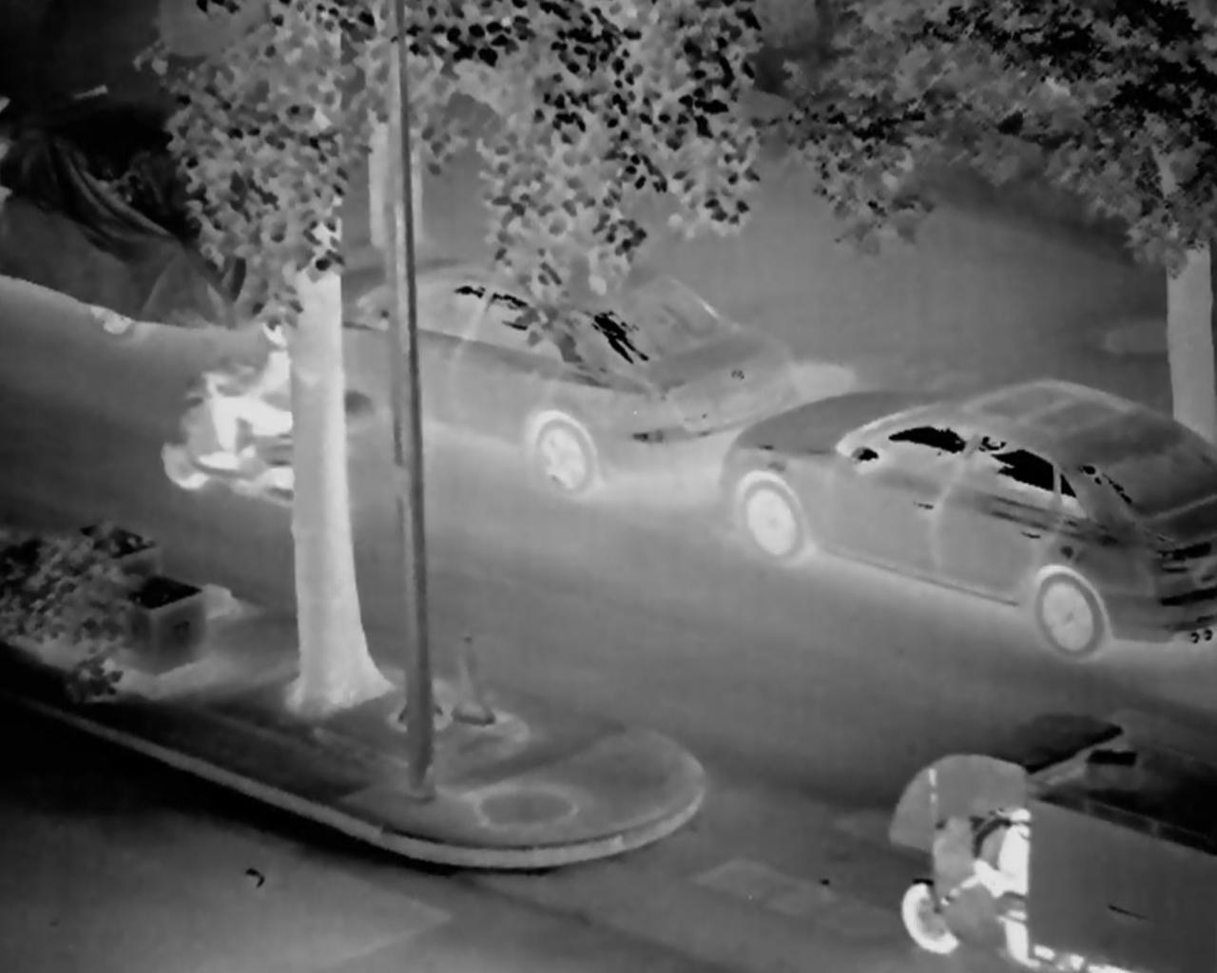person: (205, 324, 295, 476), (963, 796, 1032, 907)
